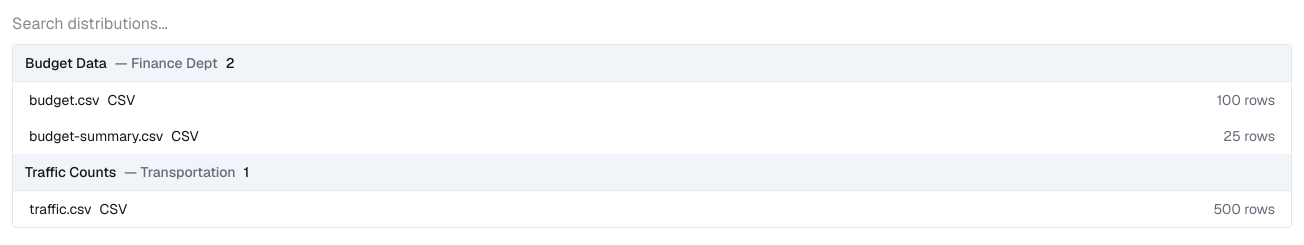
Test: DistributionPicker › filters by search text matching organization name
The image size is (1304, 245).
Type "transportation" into the field labelled "Search distributions" at (121, 24), box [12,12,230,36]
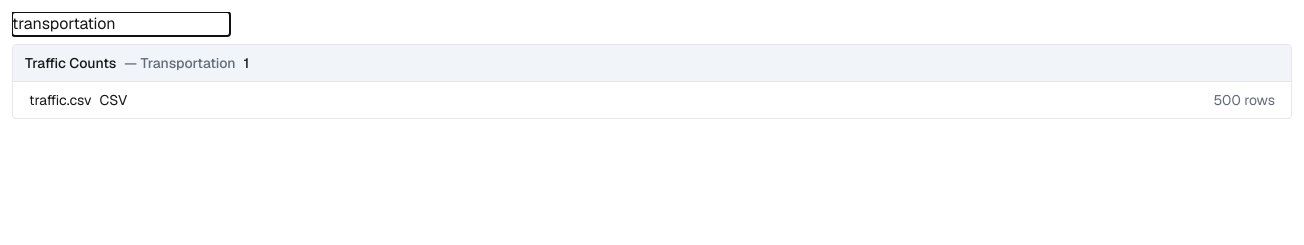
Expected: the text "Traffic Counts" is shown, [25,53,116,73]
Expected: the text "Budget Data" is gone
